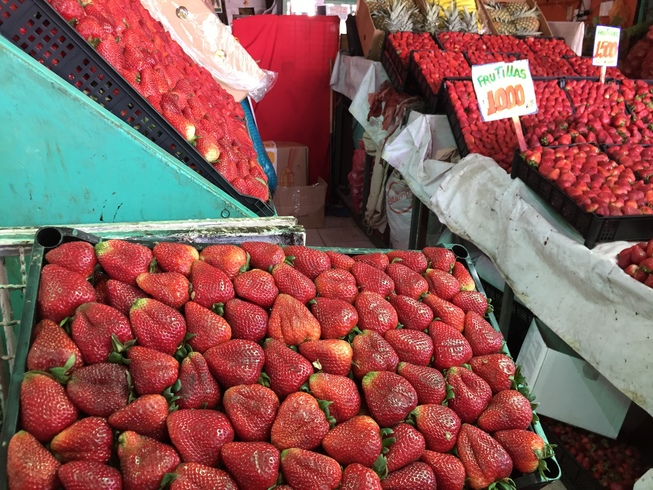precio: (475, 61, 535, 125), (594, 22, 623, 69)
